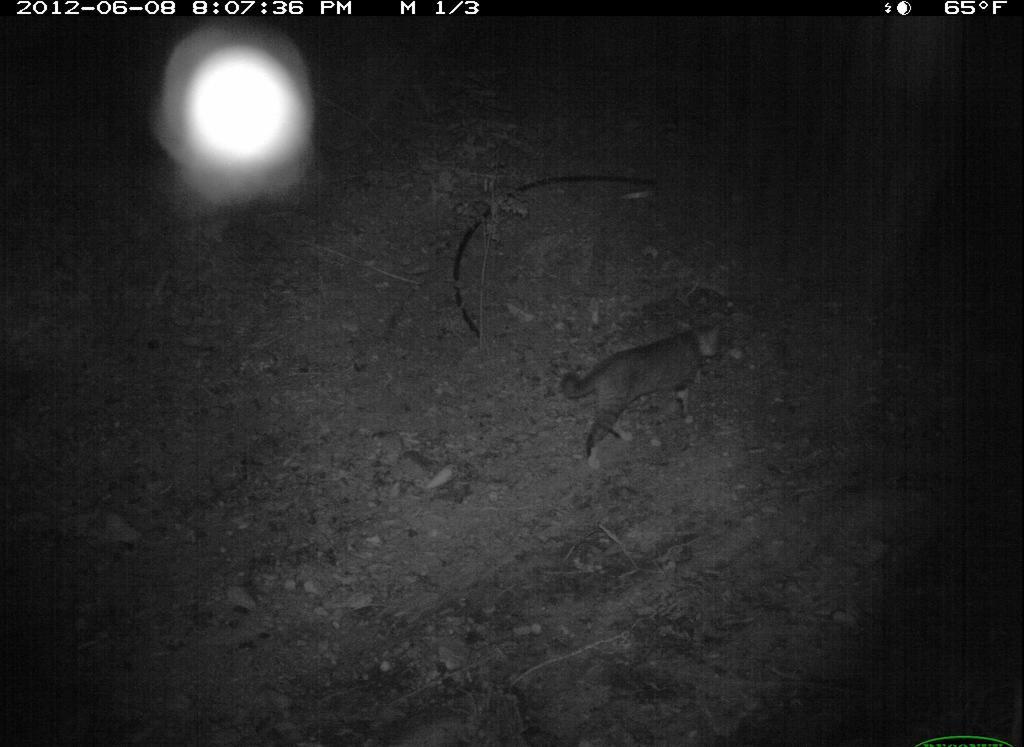cat: (546, 308, 737, 464)
